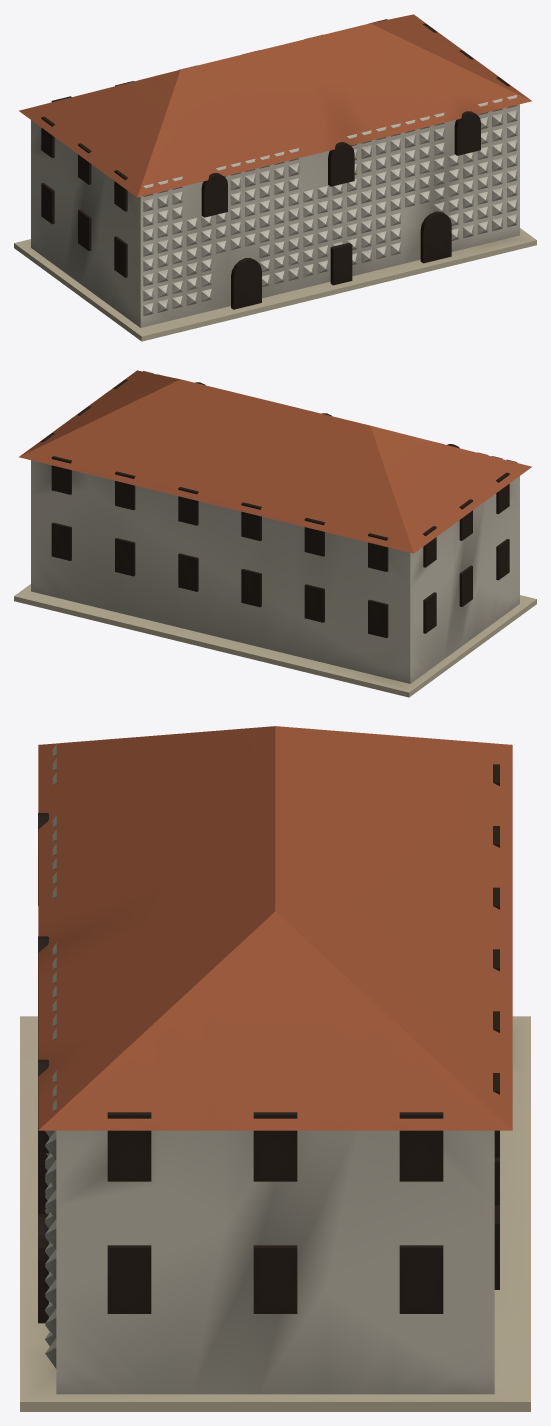
The model's file is casa-dos-bicos-1800.glb.
3 views of the same model, one above another, from view 1: azimuth 30°, elevation 25°; view 2: azimuth 150°, elevation 25°; view 3: azimuth 270°, elevation 25° (orthographic). The views are drawn at different scales.
Parts seen in each view (by area): view 1: p1_house, p2_windows, p0_ground; view 2: p1_house, p2_windows, p0_ground; view 3: p1_house, p0_ground, p2_windows.
Boxes of the visible parts, left/top/right/bottom form: p1_house: left=19, top=14, right=531, bottom=327; p2_windows: left=41, top=19, right=509, bottom=309; p0_ground: left=14, top=228, right=536, bottom=341; p1_house: left=19, top=370, right=531, bottom=683; p2_windows: left=41, top=379, right=509, bottom=638; p0_ground: left=14, top=584, right=536, bottom=697; p1_house: left=38, top=726, right=512, bottom=1394; p0_ground: left=20, top=1016, right=530, bottom=1411; p2_windows: left=38, top=764, right=499, bottom=1323.
Bounding box in the file's own units: 25 × 12.1 × 14.
